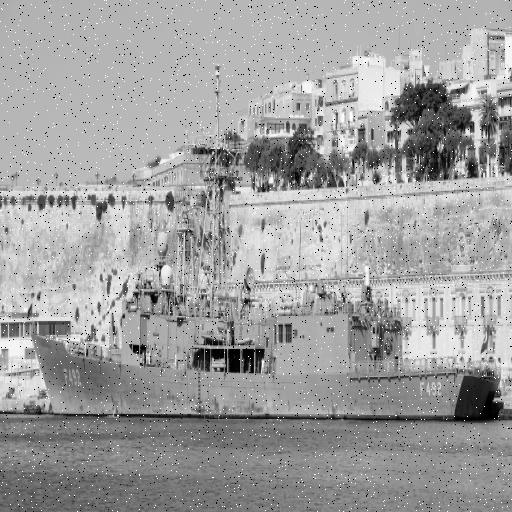Fragata: (28, 61, 503, 424)
